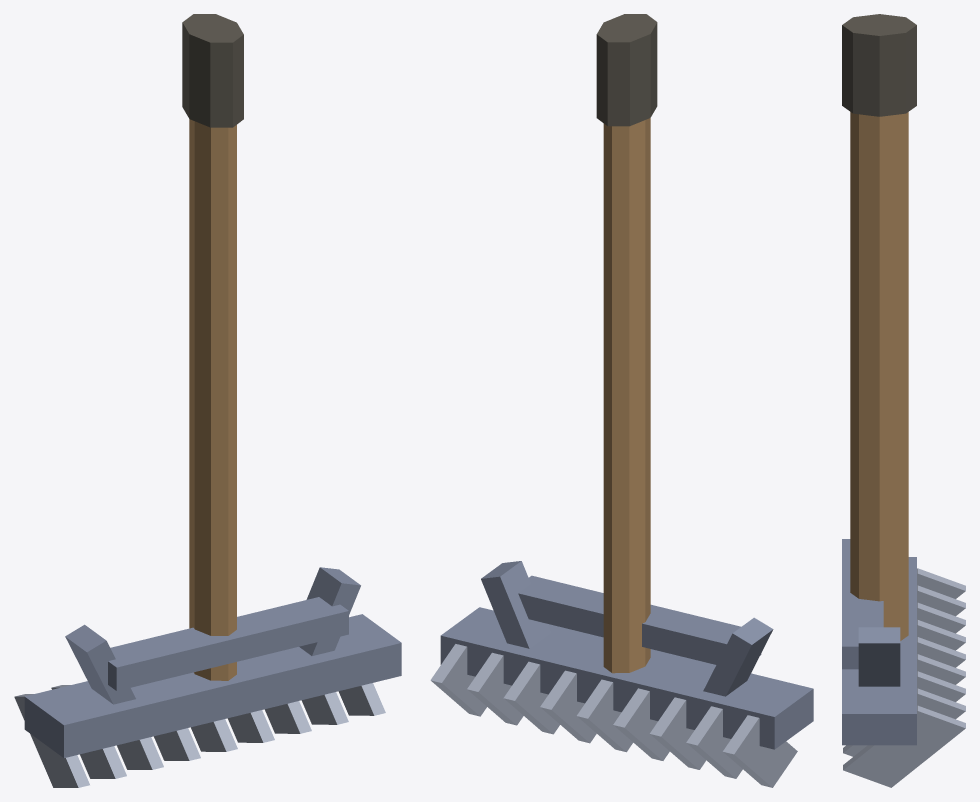
The model's file is rake.glb.
3 renders of one model, left to right at view 1: azimuth 30°, elevation 25°; view 2: azimuth 150°, elevation 25°; view 3: azimuth 270°, elevation 25°, orthographic. The views are drawn at different scales.
Visible parts, largest first — view 1: rake; view 2: rake; view 3: rake.
Part boxes in pixels (x1=…): rake: x1=14, y1=14, x2=401, y2=787; rake: x1=430, y1=14, x2=813, y2=787; rake: x1=842, y1=14, x2=965, y2=787.
Bounding box in the file's own units: 0.75 × 1.54 × 0.25.
